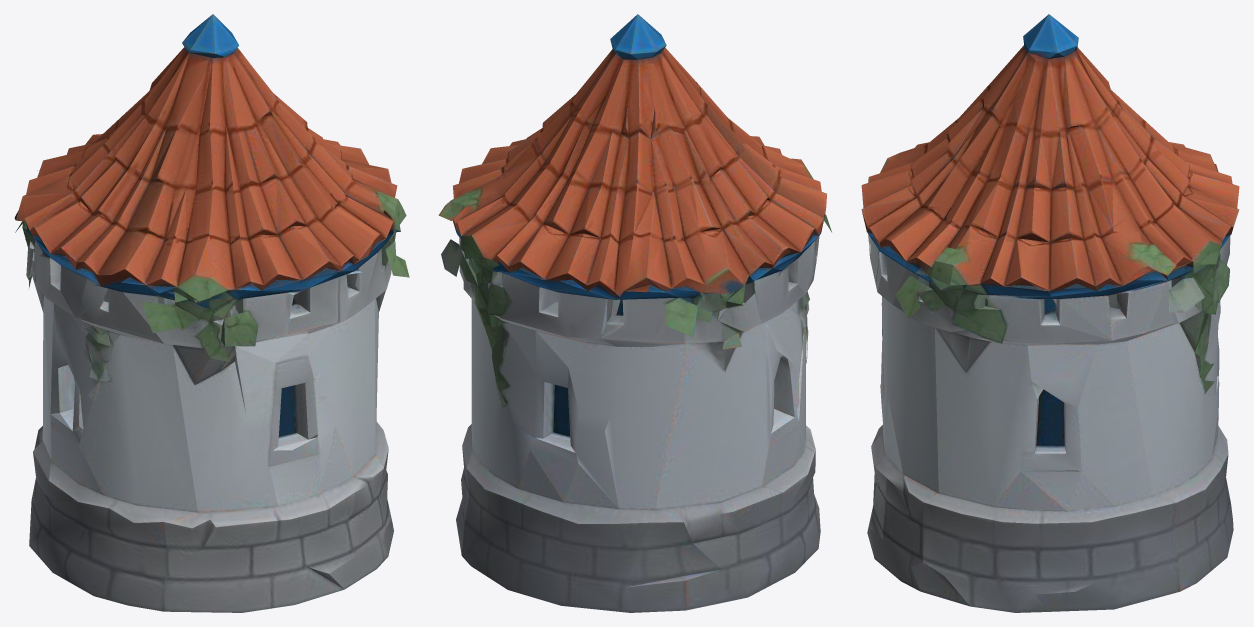
Rendered from wall_tower.glb.
3 views of the same model, side by side, from view 1: azimuth 30°, elevation 25°; view 2: azimuth 150°, elevation 25°; view 3: azimuth 270°, elevation 25° (orthographic).
Parts seen in each view (by area): view 1: wall_tower; view 2: wall_tower; view 3: wall_tower.
Part boxes in pixels (bbox=[...]): wall_tower: bbox=[14, 14, 409, 612]; wall_tower: bbox=[438, 14, 831, 612]; wall_tower: bbox=[861, 14, 1239, 612].
Size of the model in its own units: 3.92 by 6 by 3.93.
Materials: 1 (1 with a texture image).
